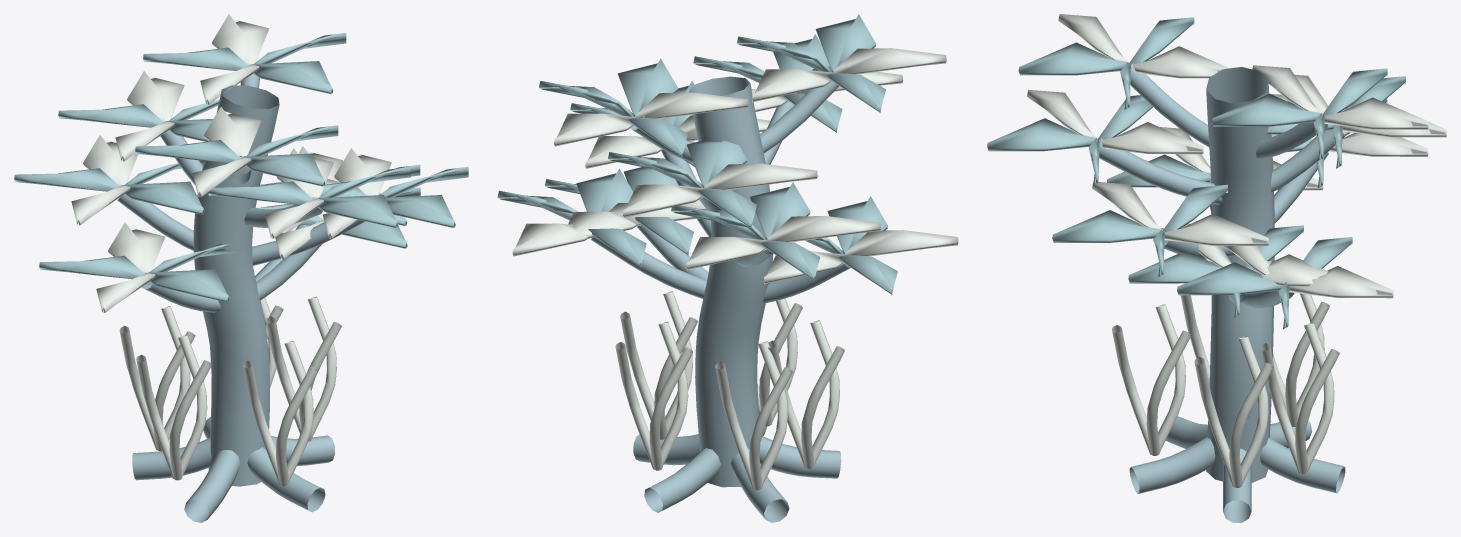
Rendered from bio_canopy_tree_19_far.glb.
3 views of the same model, side by side, from view 1: azimuth 30°, elevation 25°; view 2: azimuth 150°, elevation 25°; view 3: azimuth 270°, elevation 25° (orthographic). The views are drawn at different scales.
Parts seen in each view (by area): view 1: Buttressed trunk, Broad canopy leaf.035, Broad canopy leaf.015, Broad canopy leaf.010, Broad canopy leaf.020, Spiral filament.006, Spiral filament.012, Broad canopy leaf.005, Spiral filament, Spiral filament.003, Broad canopy leaf.021, Broad canopy leaf.036 (+10 smaller); view 2: Buttressed trunk, Broad canopy leaf.035, Broad canopy leaf.015, Broad canopy leaf.005, Spiral filament.003, Spiral filament.009, Broad canopy leaf.030, Broad canopy leaf.016, Broad canopy leaf.031, Broad canopy leaf.036, Broad canopy leaf.006, Broad canopy leaf.040 (+12 smaller); view 3: Buttressed trunk, Spiral filament, Spiral filament.006, Spiral filament.009, Broad canopy leaf.035, Broad canopy leaf.015, Broad canopy leaf.025, Broad canopy leaf.010, Broad canopy leaf.011, Broad canopy leaf.026, Broad canopy leaf.040, Broad canopy leaf.016 (+11 smaller).
Boxes of the visible parts, box(x1,y1,x2,y2) form: Buttressed trunk: box(117, 74, 365, 522); Broad canopy leaf.035: box(135, 125, 338, 186); Broad canopy leaf.015: box(143, 33, 346, 93); Broad canopy leaf.010: box(208, 166, 410, 227); Broad canopy leaf.020: box(39, 243, 235, 302); Spiral filament.006: box(242, 341, 318, 486); Spiral filament.012: box(136, 335, 212, 480); Broad canopy leaf.005: box(14, 160, 204, 214); Spiral filament: box(266, 296, 341, 441); Spiral filament.003: box(119, 306, 195, 451); Broad canopy leaf.021: box(96, 222, 165, 312); Broad canopy leaf.036: box(192, 107, 261, 197); Buttressed trunk: box(590, 71, 850, 522); Broad canopy leaf.035: box(737, 14, 885, 112); Broad canopy leaf.015: box(539, 58, 687, 157); Broad canopy leaf.005: box(671, 182, 820, 281); Spiral filament.003: box(715, 341, 792, 490); Spiral filament.009: box(615, 322, 692, 470); Broad canopy leaf.030: box(608, 140, 756, 228); Broad canopy leaf.016: box(554, 92, 748, 146); Broad canopy leaf.031: box(623, 163, 817, 217); Broad canopy leaf.036: box(752, 48, 946, 101); Broad canopy leaf.006: box(686, 216, 880, 269); Broad canopy leaf.040: box(497, 168, 646, 267); Buttressed trunk: box(1099, 63, 1345, 522); Spiral filament: box(1194, 336, 1273, 487); Spiral filament.006: box(1112, 304, 1190, 455); Spiral filament.009: box(1260, 322, 1339, 474); Broad canopy leaf.035: box(1018, 17, 1194, 109); Broad canopy leaf.015: box(1212, 68, 1387, 160); Broad canopy leaf.025: box(1052, 184, 1227, 277); Broad canopy leaf.010: box(987, 95, 1152, 185); Broad canopy leaf.011: box(1027, 89, 1203, 154); Broad canopy leaf.026: box(1092, 182, 1268, 245); Broad canopy leaf.040: box(1177, 237, 1352, 329); Broad canopy leaf.016: box(1252, 65, 1428, 129).
Bounding box in the file's own units: 3.06 × 2.99 × 3.05.
